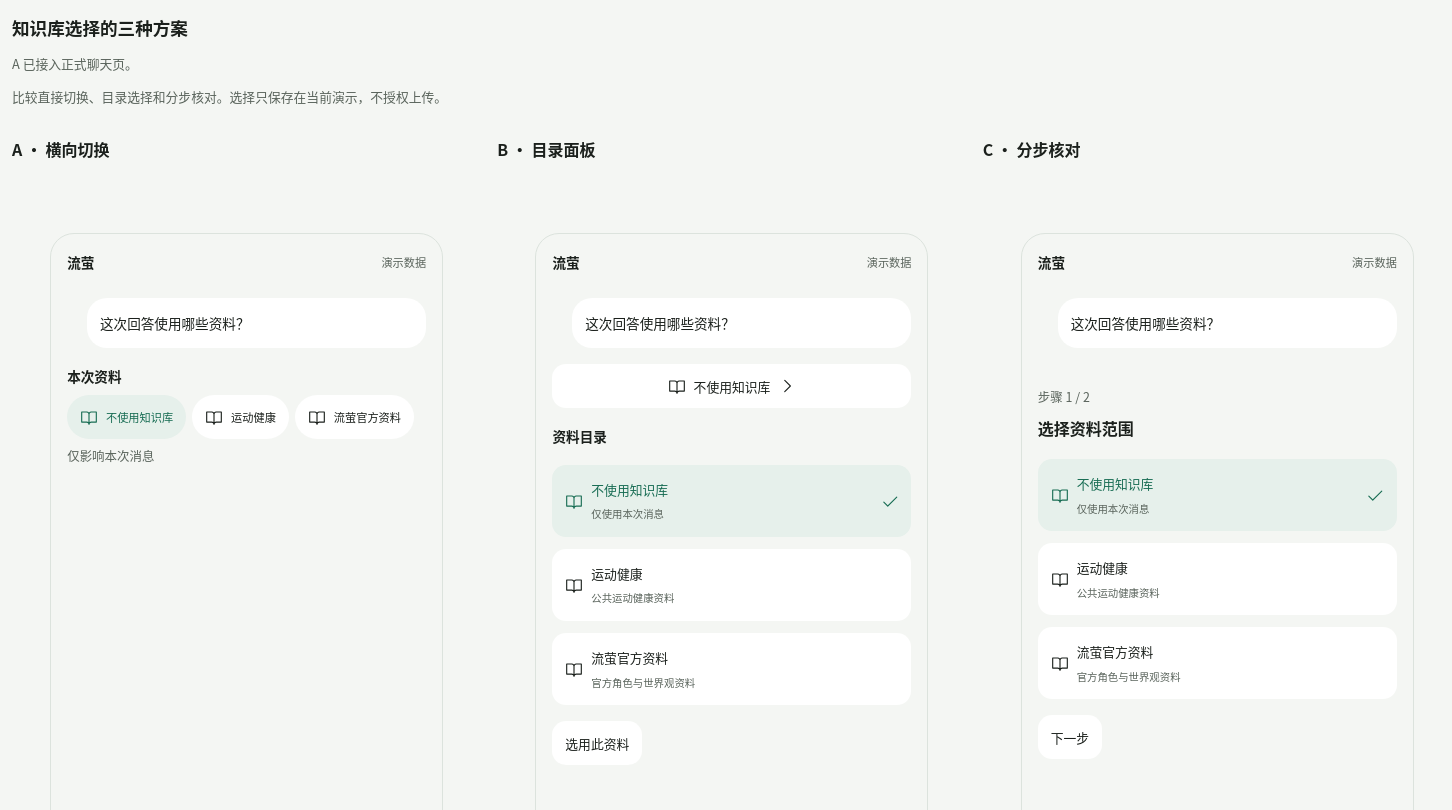
知识库目录和分步核对保留本地选择
Click the button "运动健康 公共运动健康资料" below "选择资料范围" at [1102, 567], box [1038,543,1397,615]
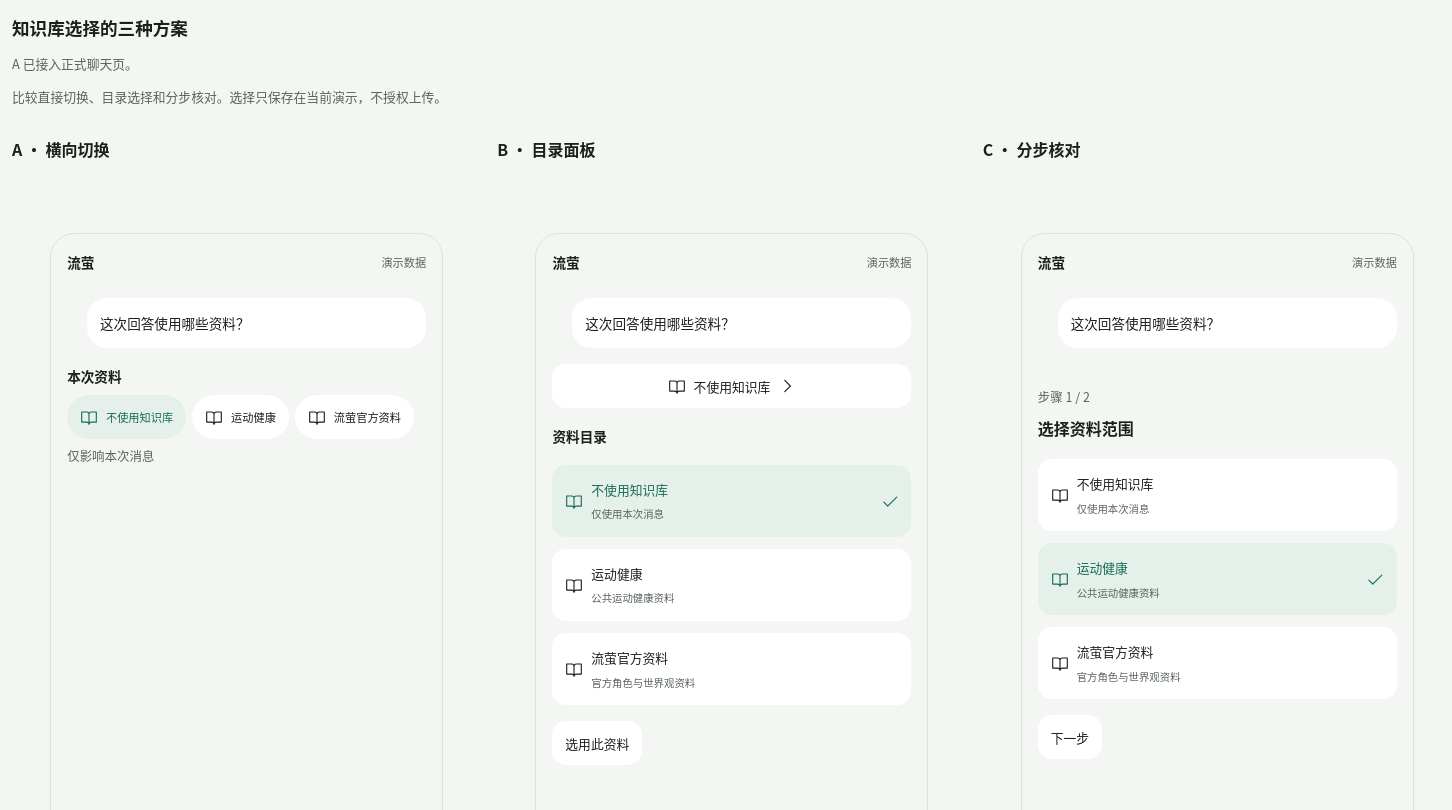
Click the button "下一步" at [1070, 738], box [1038,716,1102,760]
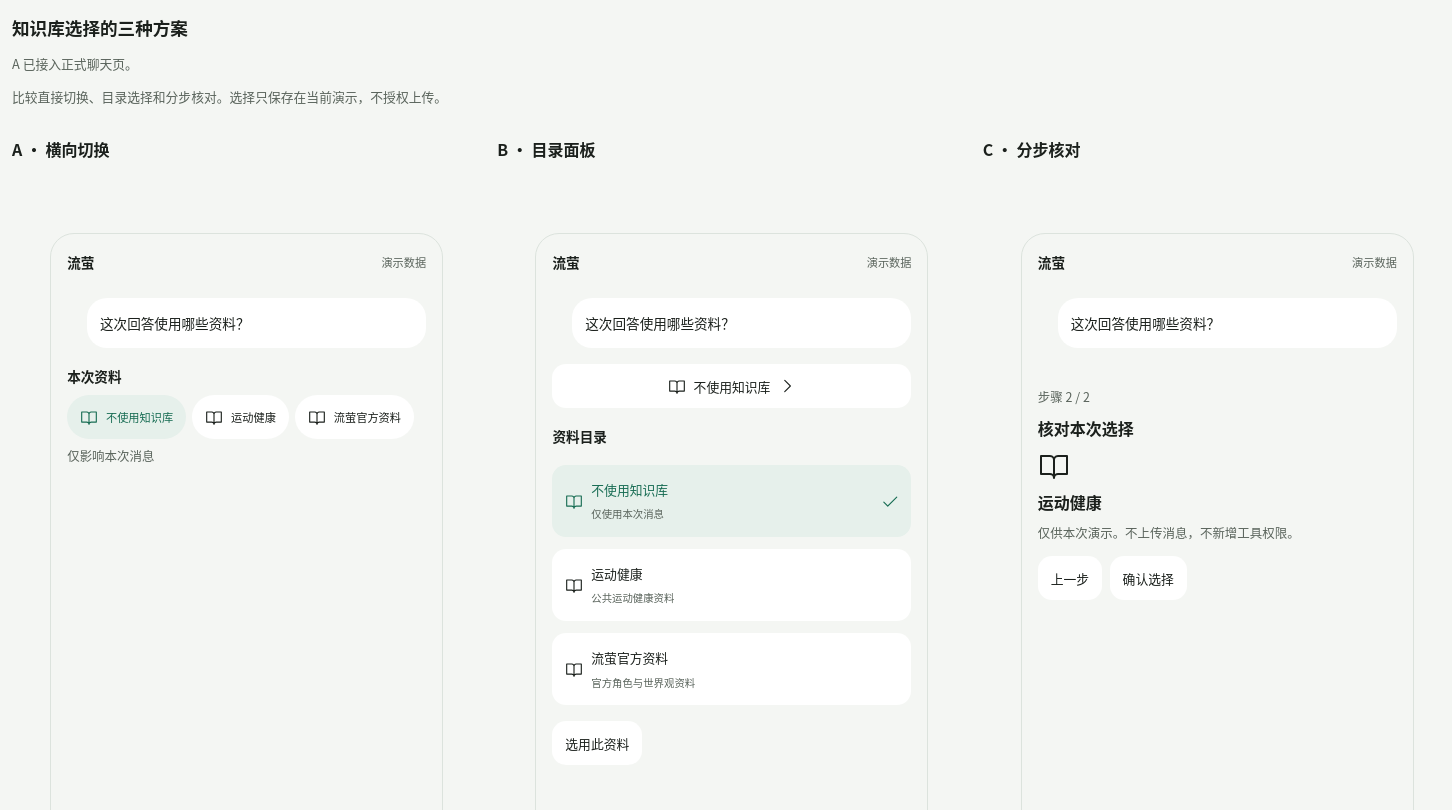
Click the button "确认选择" at [1148, 578], box [1110,556,1187,600]
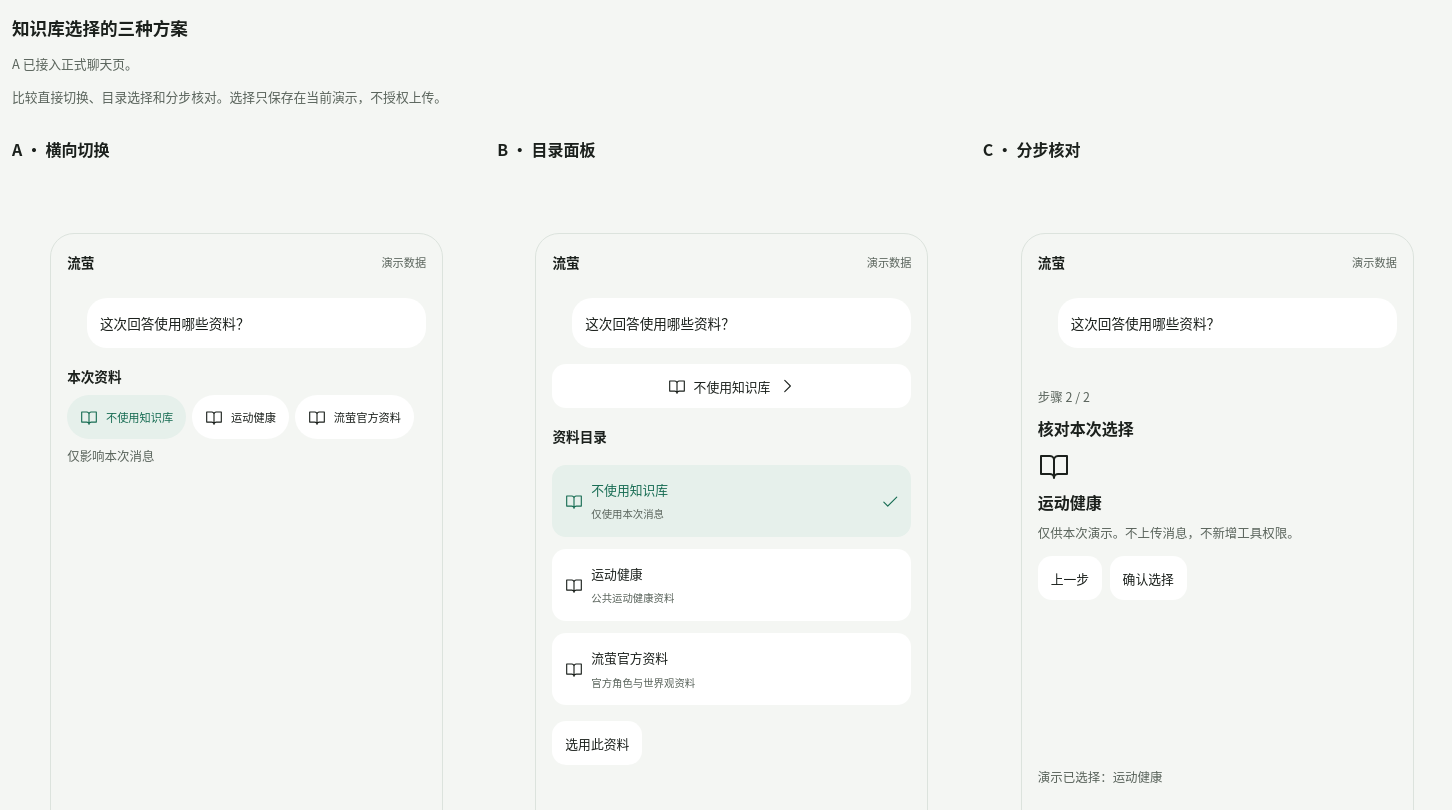
Check: the message shows "运动健康", box [1038,768,1162,786]
